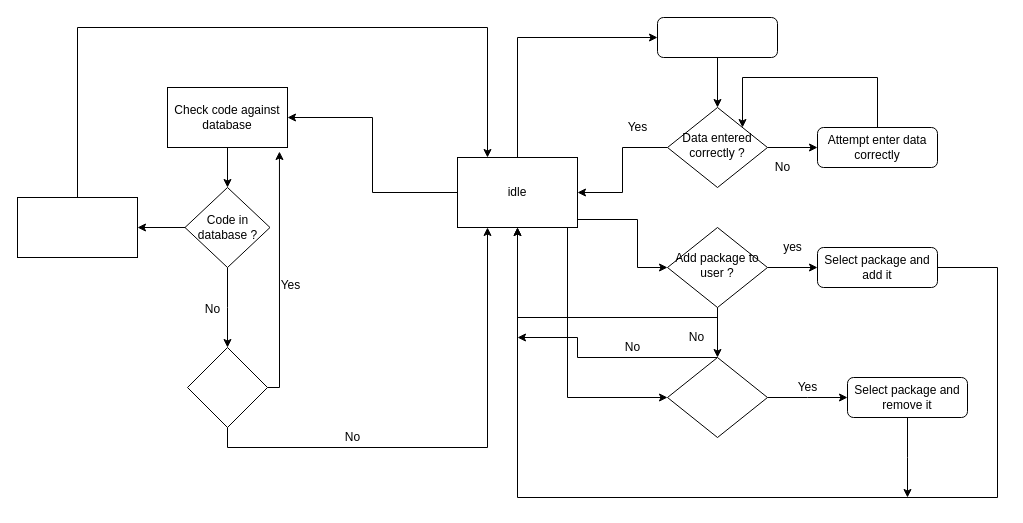
This 1023x523 diagram has some shape labels left out. Each missing label, with the box of its shape:
Add a new user: (656, 16, 778, 58)
Check again ?: (186, 346, 268, 428)
Display the proper message and unlock the proper door: (16, 196, 138, 258)
Remove package from user ?: (666, 356, 768, 438)
